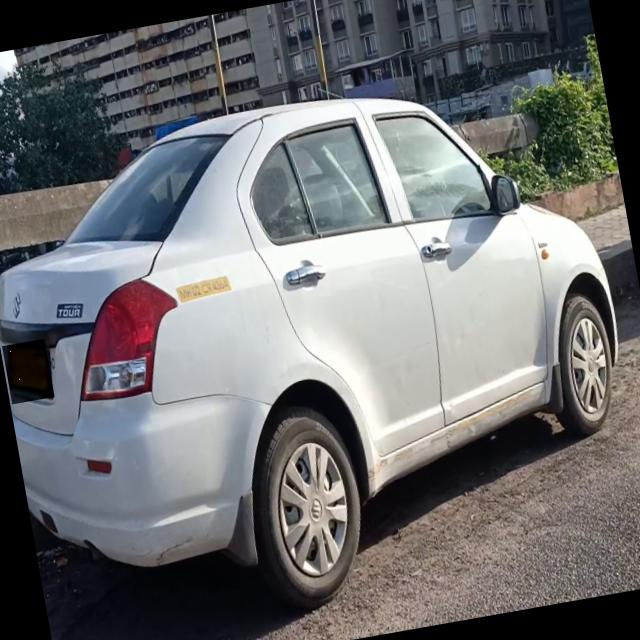Plate: (3, 339, 56, 405)
